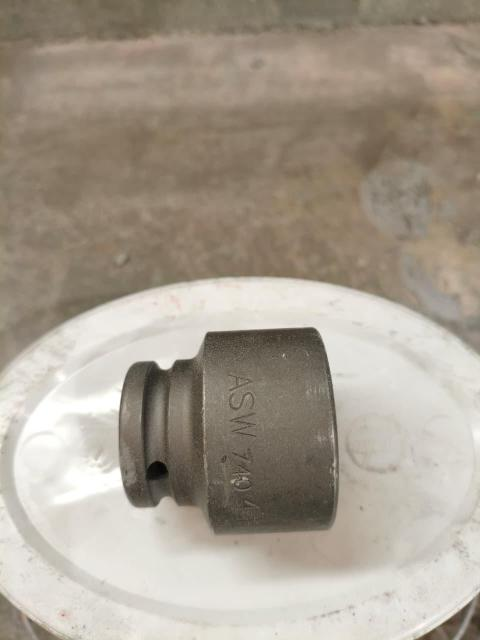Metal: (103, 323, 348, 537)
